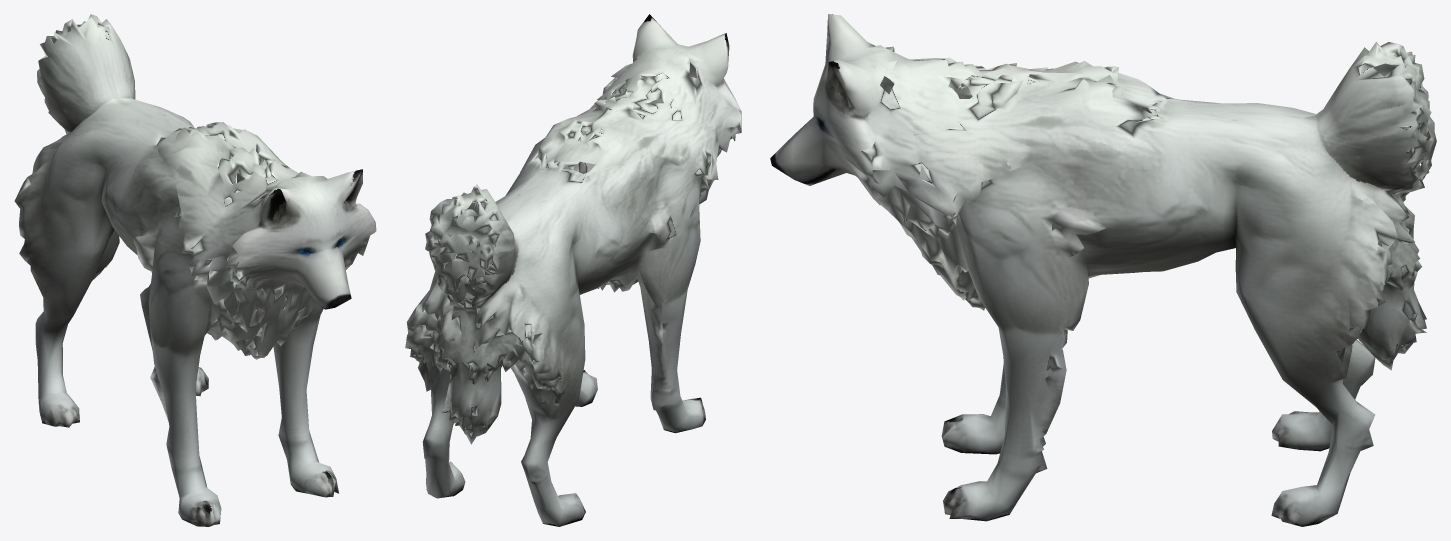
Rendered from snowwolf.glb.
3 views of the same model, side by side, from view 1: azimuth 30°, elevation 25°; view 2: azimuth 150°, elevation 25°; view 3: azimuth 270°, elevation 25° (orthographic). The views are drawn at different scales.
Visible parts, largest first — view 1: geometry_0; view 2: geometry_0; view 3: geometry_0.
Boxes of the visible parts, x1=… form: geometry_0: x1=14, y1=14, x2=376, y2=526; geometry_0: x1=405, y1=14, x2=741, y2=526; geometry_0: x1=770, y1=14, x2=1436, y2=526.
Size of the model in its own units: 0.3428 by 0.7287 by 0.9945.
1 material, 1 textured.
